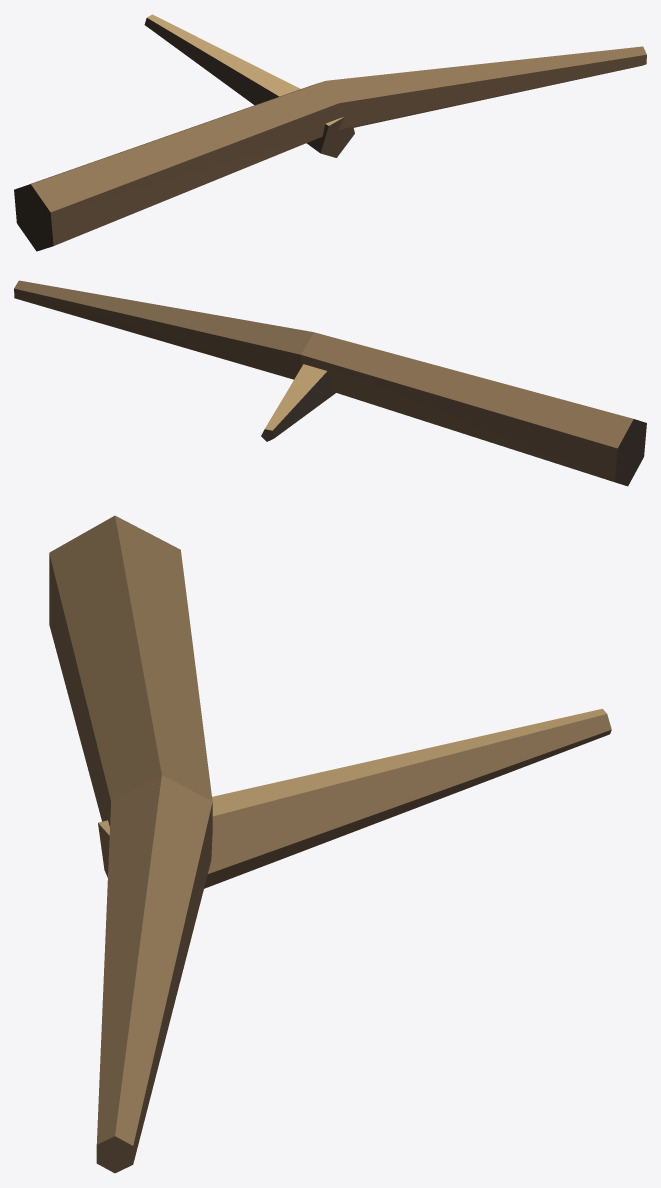
Rendered from TW_PROP_BRANCH_FORK_A_LOD0.glb.
3 renders of one model, top to bottom at view 1: azimuth 30°, elevation 25°; view 2: azimuth 150°, elevation 25°; view 3: azimuth 270°, elevation 25°, orthographic. The views are drawn at different scales.
Visible parts, largest first — view 1: TW_PROP_BRANCH_FORK_A_LOD0; view 2: TW_PROP_BRANCH_FORK_A_LOD0; view 3: TW_PROP_BRANCH_FORK_A_LOD0.
Boxes of the visible parts, x1,y1,x2,y2 form: TW_PROP_BRANCH_FORK_A_LOD0: (14, 14, 646, 251); TW_PROP_BRANCH_FORK_A_LOD0: (14, 280, 646, 486); TW_PROP_BRANCH_FORK_A_LOD0: (49, 515, 611, 1173).
Size of the model in its own units: 1.21 by 0.1675 by 0.4801.
Materials: 1 (1 with a texture image).
